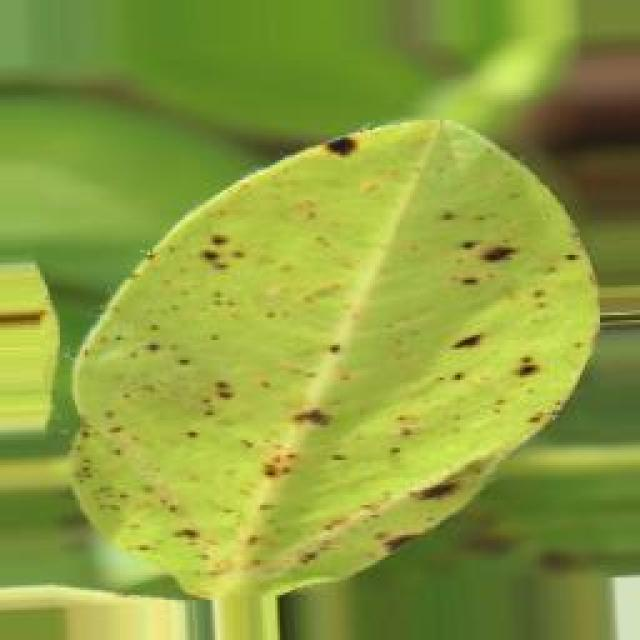Yellowish: (61, 102, 598, 594)
